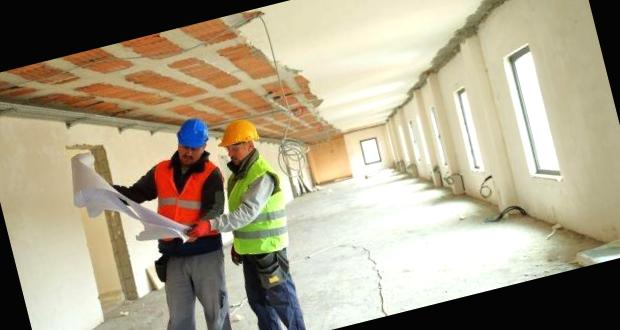helmet: (171, 112, 210, 156), (215, 115, 260, 150)
person: (110, 112, 264, 330), (206, 110, 319, 330)
